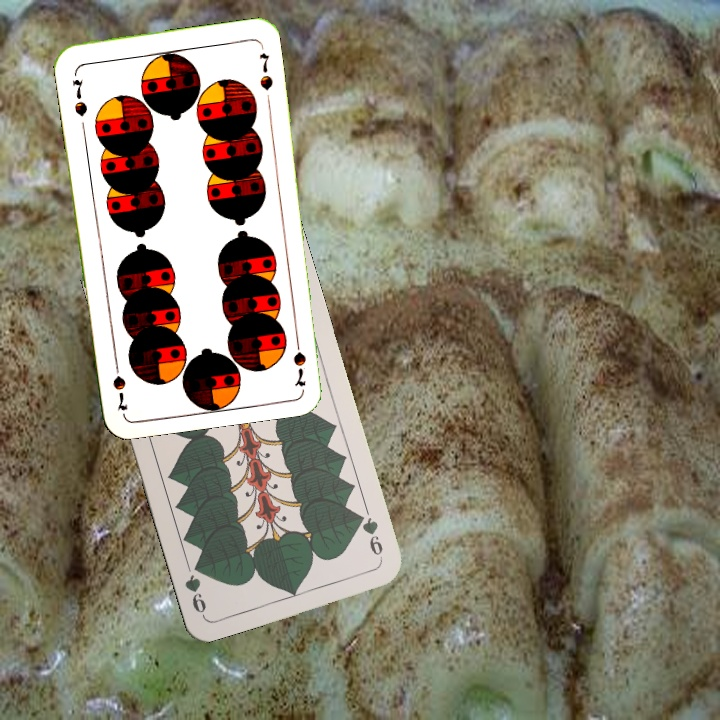G9: (353, 509, 386, 563)
S7: (289, 330, 309, 389), (68, 75, 90, 119)
